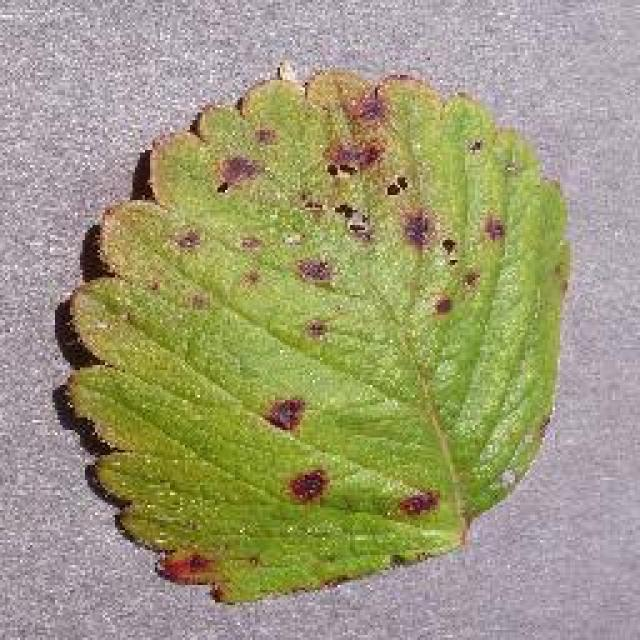Strawberry leaf scorch: (119, 95, 518, 580)
